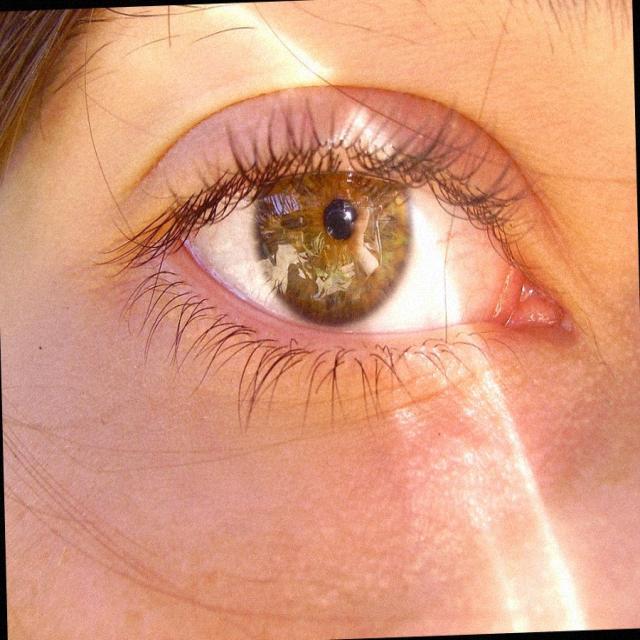Healthy-Eye: (128, 106, 602, 393)
